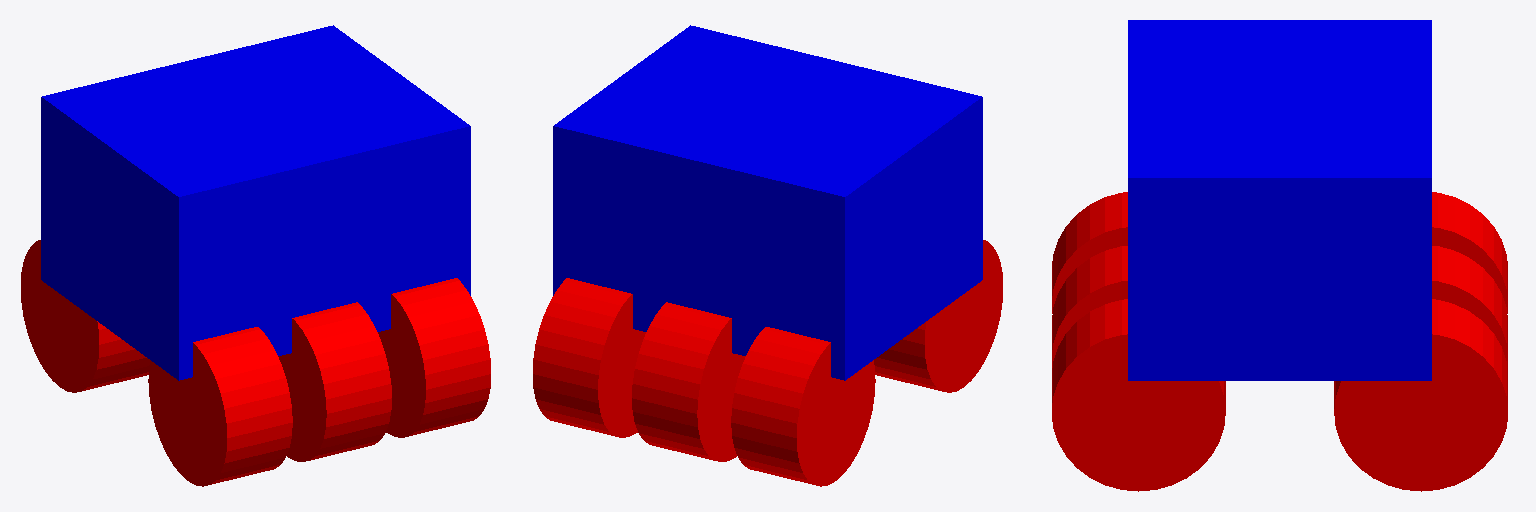
The robot description file, URDF, robot "shrimp":
<?xml version="1.0" ?>
<!-- =================================================================================== -->
<!-- |    This document was autogenerated by xacro from src/shrimp_modu/urdf/shrimp.urdf.xacro | -->
<!-- |    EDITING THIS FILE BY HAND IS NOT RECOMMENDED                                 | -->
<!-- =================================================================================== -->
<robot name="shrimp">
  <!-- ================= PARAMETERS ================= -->
  <!-- ================= MATERIALS ================= -->
  <material name="chassis_blue">
    <color rgba="0 0 1 1"/>
  </material>
  <material name="wheel_red">
    <color rgba="1 0 0 1"/>
  </material>
  <!-- ================= BASE LINK ================= -->
  <link name="base_link">
    <visual>
      <geometry>
        <box size="0.25 0.20384 0.15"/>
      </geometry>
      <material name="chassis_blue"/>
    </visual>
  </link>
  <!-- ================= WHEEL MACRO ================= -->
  <!-- ================= LEFT WHEELS ================= -->
  <link name="front_left_wheel">
    <visual>
      <geometry>
        <cylinder length="0.056" radius="0.0585"/>
      </geometry>
      <material name="wheel_red"/>
    </visual>
  </link>
  <joint name="front_left_wheel_joint" type="continuous">
    <parent link="base_link"/>
    <child link="front_left_wheel"/>
    <origin rpy="0 1.5708 0" xyz="0.085 0.094775 -0.10417"/>
    <axis xyz="0 1 0"/>
  </joint>
  <link name="middle_left_wheel">
    <visual>
      <geometry>
        <cylinder length="0.056" radius="0.0585"/>
      </geometry>
      <material name="wheel_red"/>
    </visual>
  </link>
  <joint name="middle_left_wheel_joint" type="continuous">
    <parent link="base_link"/>
    <child link="middle_left_wheel"/>
    <origin rpy="0 1.5708 0" xyz="0.0 0.094775 -0.10417"/>
    <axis xyz="0 1 0"/>
  </joint>
  <link name="rear_left_wheel">
    <visual>
      <geometry>
        <cylinder length="0.056" radius="0.0585"/>
      </geometry>
      <material name="wheel_red"/>
    </visual>
  </link>
  <joint name="rear_left_wheel_joint" type="continuous">
    <parent link="base_link"/>
    <child link="rear_left_wheel"/>
    <origin rpy="0 1.5708 0" xyz="-0.085 0.094775 -0.10417"/>
    <axis xyz="0 1 0"/>
  </joint>
  <!-- ================= RIGHT WHEELS ================= -->
  <link name="front_right_wheel">
    <visual>
      <geometry>
        <cylinder length="0.056" radius="0.0585"/>
      </geometry>
      <material name="wheel_red"/>
    </visual>
  </link>
  <joint name="front_right_wheel_joint" type="continuous">
    <parent link="base_link"/>
    <child link="front_right_wheel"/>
    <origin rpy="0 1.5708 0" xyz="0.085 -0.094775 -0.10417"/>
    <axis xyz="0 1 0"/>
  </joint>
  <link name="middle_right_wheel">
    <visual>
      <geometry>
        <cylinder length="0.056" radius="0.0585"/>
      </geometry>
      <material name="wheel_red"/>
    </visual>
  </link>
  <joint name="middle_right_wheel_joint" type="continuous">
    <parent link="base_link"/>
    <child link="middle_right_wheel"/>
    <origin rpy="0 1.5708 0" xyz="0.0 -0.094775 -0.10417"/>
    <axis xyz="0 1 0"/>
  </joint>
  <link name="rear_right_wheel">
    <visual>
      <geometry>
        <cylinder length="0.056" radius="0.0585"/>
      </geometry>
      <material name="wheel_red"/>
    </visual>
  </link>
  <joint name="rear_right_wheel_joint" type="continuous">
    <parent link="base_link"/>
    <child link="rear_right_wheel"/>
    <origin rpy="0 1.5708 0" xyz="-0.085 -0.094775 -0.10417"/>
    <axis xyz="0 1 0"/>
  </joint>
</robot>

--- Facts derived from the render (not from the file) ---
Views: 3 orthographic renders of the robot side by side, from view 1: azimuth 30°, elevation 25°; view 2: azimuth 150°, elevation 25°; view 3: azimuth 270°, elevation 25°.
Robot: shrimp — 7 links, 6 joints (6 continuous); root link base_link; default pose: every joint at zero.
Visible links, largest first — view 1: base_link, rear_right_wheel, front_right_wheel, middle_right_wheel, rear_left_wheel; view 2: base_link, rear_left_wheel, front_left_wheel, middle_left_wheel, rear_right_wheel; view 3: base_link, front_left_wheel, front_right_wheel, middle_left_wheel, middle_right_wheel, rear_left_wheel, rear_right_wheel.
Boxes of the visible links, x1,y1,x2,y2 form: base_link: (41, 25, 470, 380); rear_right_wheel: (148, 327, 292, 486); front_right_wheel: (378, 278, 490, 437); middle_right_wheel: (278, 302, 391, 461); rear_left_wheel: (21, 240, 149, 392); base_link: (553, 25, 982, 380); rear_left_wheel: (731, 327, 875, 486); front_left_wheel: (533, 278, 645, 437); middle_left_wheel: (632, 302, 745, 461); rear_right_wheel: (874, 240, 1002, 392); base_link: (1128, 20, 1431, 380); front_left_wheel: (1334, 299, 1507, 491); front_right_wheel: (1052, 299, 1225, 491); middle_left_wheel: (1432, 246, 1507, 367); middle_right_wheel: (1052, 246, 1127, 367); rear_left_wheel: (1432, 192, 1507, 313); rear_right_wheel: (1052, 192, 1127, 313).
Bounding box of the posed robot: 0.25 × 0.3065 × 0.2377 m (x, y, z).
Geometry: primitives only (box / cylinder / sphere), no mesh files.
